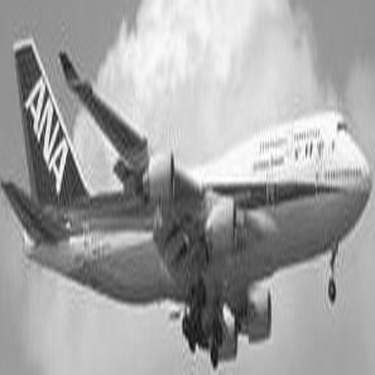airplane: (3, 5, 373, 372)
